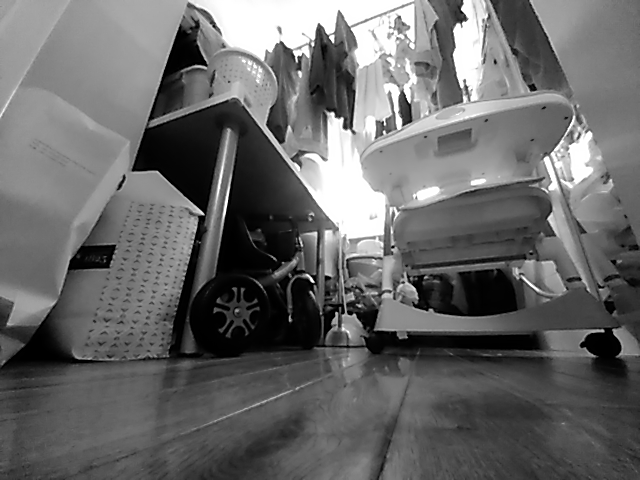others: (372, 296, 629, 362)
